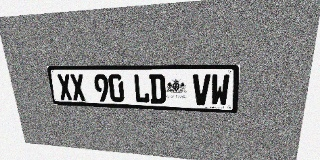0: (108, 74, 125, 102)
9: (93, 74, 110, 102)
D: (149, 74, 166, 104)
L: (133, 74, 150, 103)
V: (193, 74, 211, 106)
W: (210, 74, 230, 106)
X: (69, 74, 86, 101), (56, 74, 73, 100)
